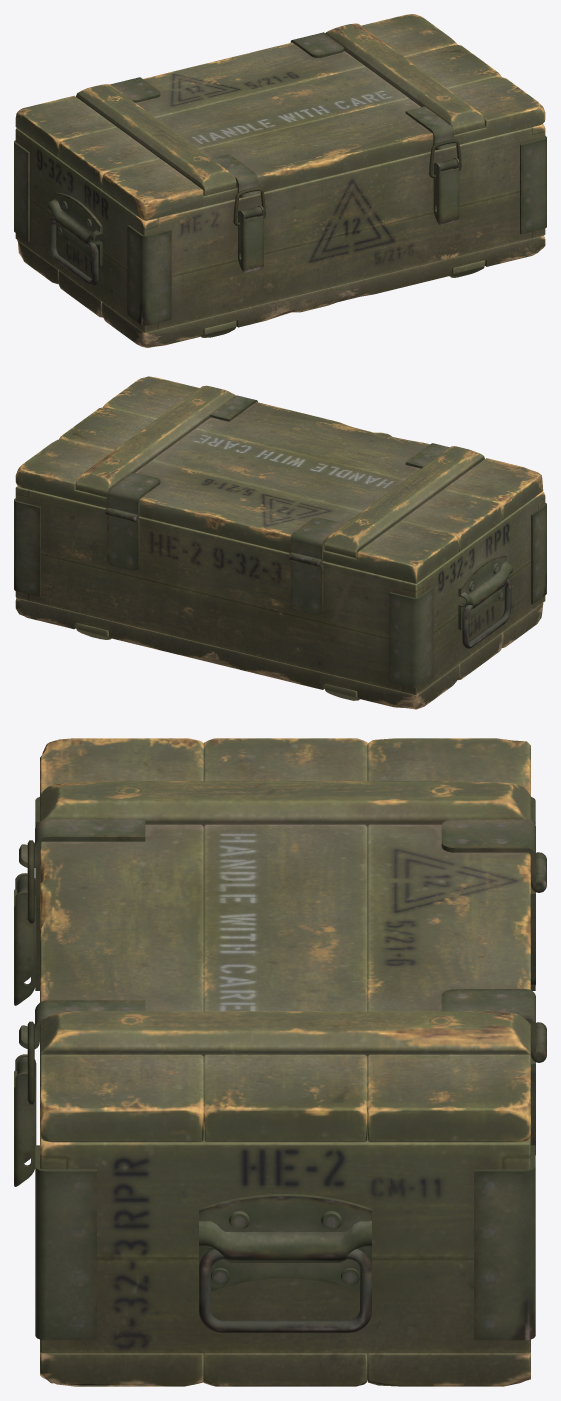
The model's file is supply_crate.glb.
The picture shows the model from 3 angles, top to bottom: view 1: azimuth 30°, elevation 25°; view 2: azimuth 150°, elevation 25°; view 3: azimuth 270°, elevation 25°; orthographic projection. The views are drawn at different scales.
Visible parts, largest first — view 1: old_military_crate_a, old_military_crate_lid_a, old_military_crate_latch_a, old_military_crate_loop_a; view 2: old_military_crate_a, old_military_crate_lid_a; view 3: old_military_crate_lid_a, old_military_crate_a, old_military_crate_latch_a, old_military_crate_loop_a.
Boxes of the visible parts, <box> form: old_military_crate_a: <box>14,124,546,347</box>; old_military_crate_lid_a: <box>15,14,545,220</box>; old_military_crate_latch_a: <box>238,157,459,272</box>; old_military_crate_loop_a: <box>233,139,461,225</box>; old_military_crate_a: <box>14,486,546,709</box>; old_military_crate_lid_a: <box>15,376,543,583</box>; old_military_crate_lid_a: <box>19,738,546,1142</box>; old_military_crate_a: <box>35,797,546,1386</box>; old_military_crate_latch_a: <box>14,873,36,1186</box>; old_military_crate_loop_a: <box>27,840,34,1104</box>.
Size of the model in its own units: 0.8047 by 0.3009 by 0.4667.
1 material, 1 textured.
